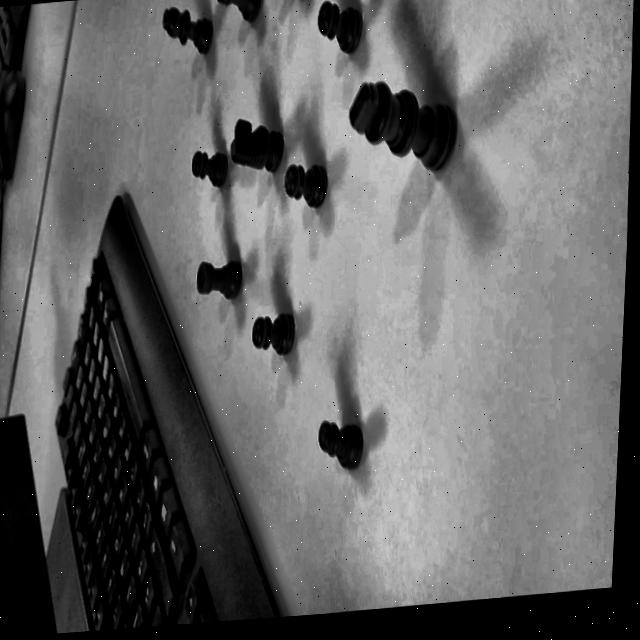black-bishop: (157, 0, 219, 75)
black-king: (340, 64, 474, 213)
black-knight: (226, 96, 287, 197)
black-pawn: (307, 408, 378, 489), (283, 148, 333, 226), (247, 302, 303, 368), (313, 0, 367, 66), (186, 136, 233, 204)
black-rook: (189, 244, 253, 312), (211, 0, 264, 33)
